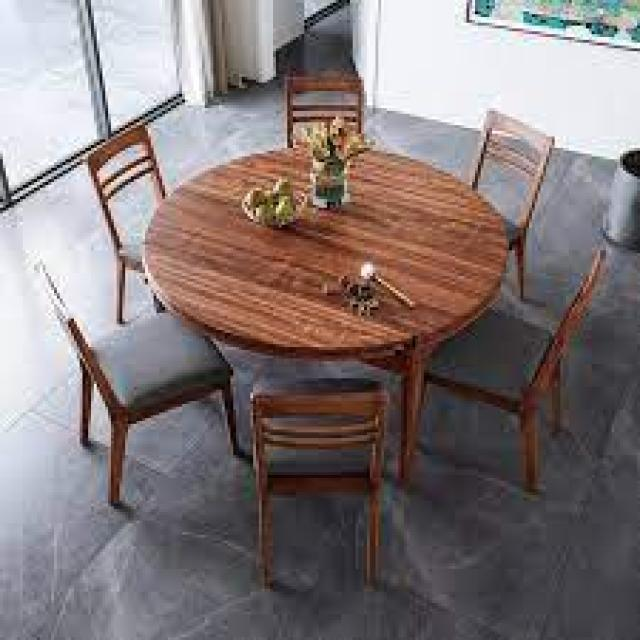table: (21, 66, 612, 595)
